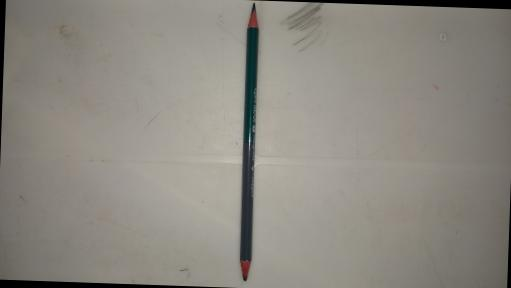Pencil: (235, 1, 260, 280)
